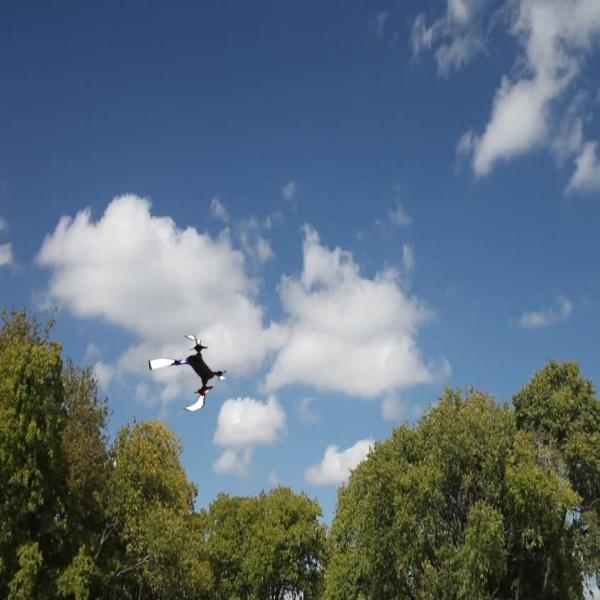drone: (152, 334, 233, 415)
